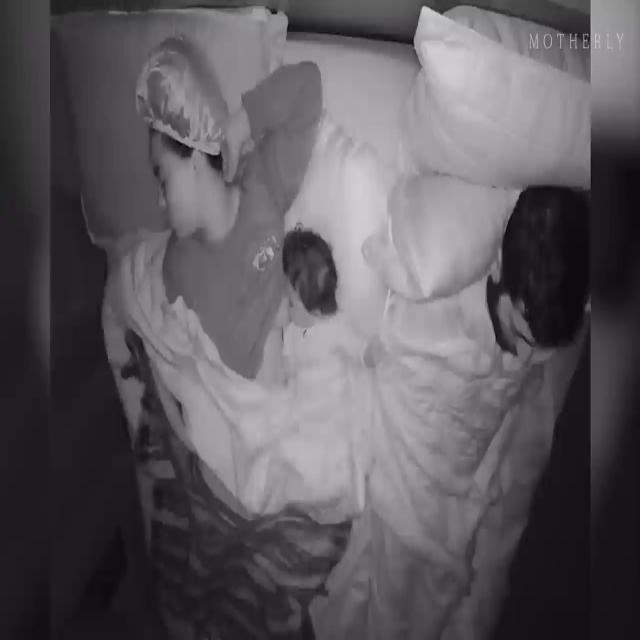baby: (282, 228, 378, 381)
